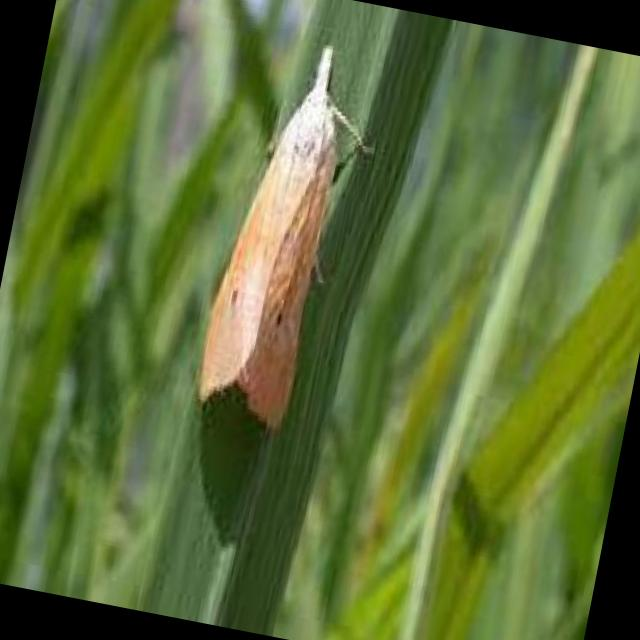stem-borer: (187, 25, 393, 442)
